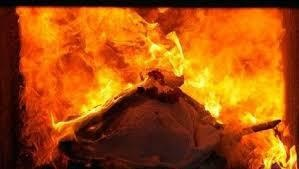fire: (9, 3, 280, 148)
